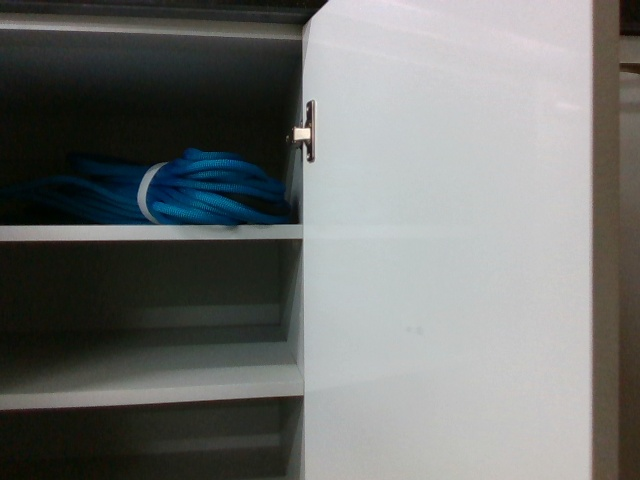rope: (35, 143, 299, 229)
